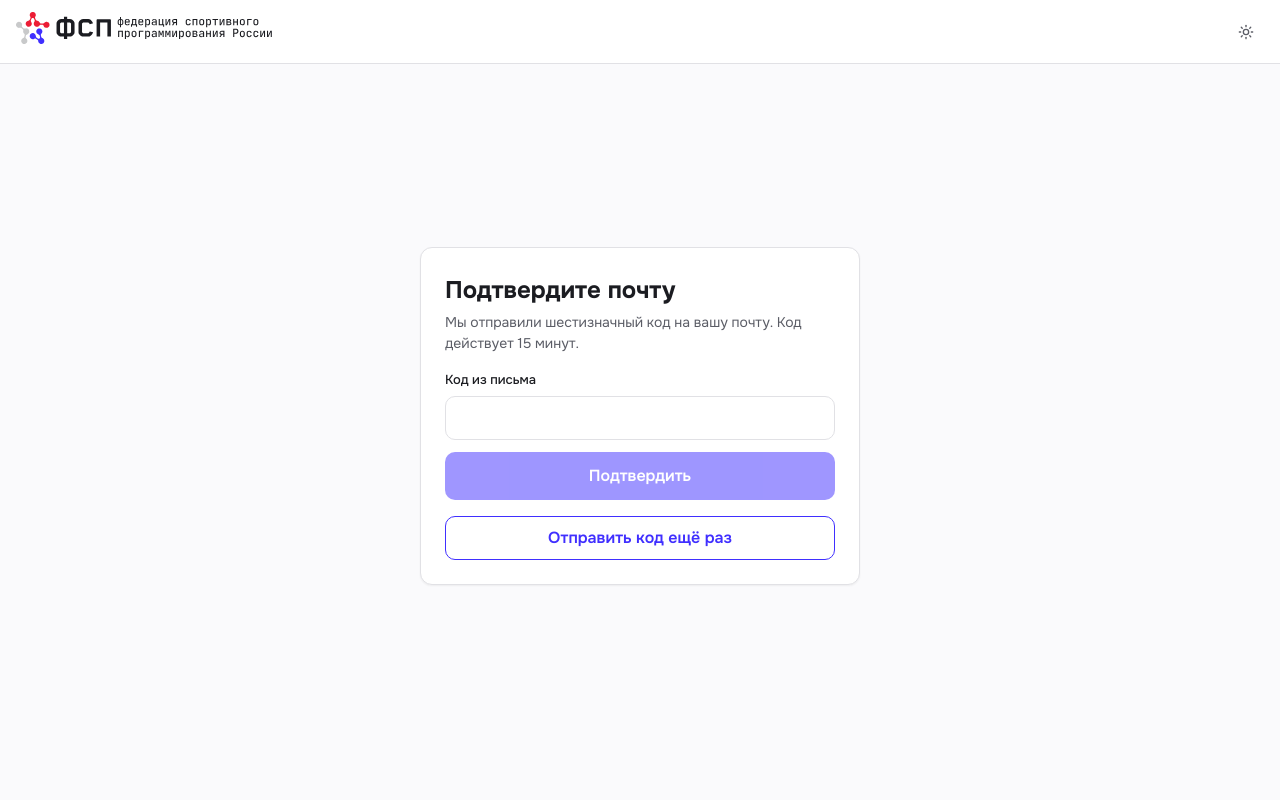
it: повторная отправка: после успеха кнопка блокируется на кулдаун
Click the button with test id "verify-resend": (640, 538) [445,516,835,560]
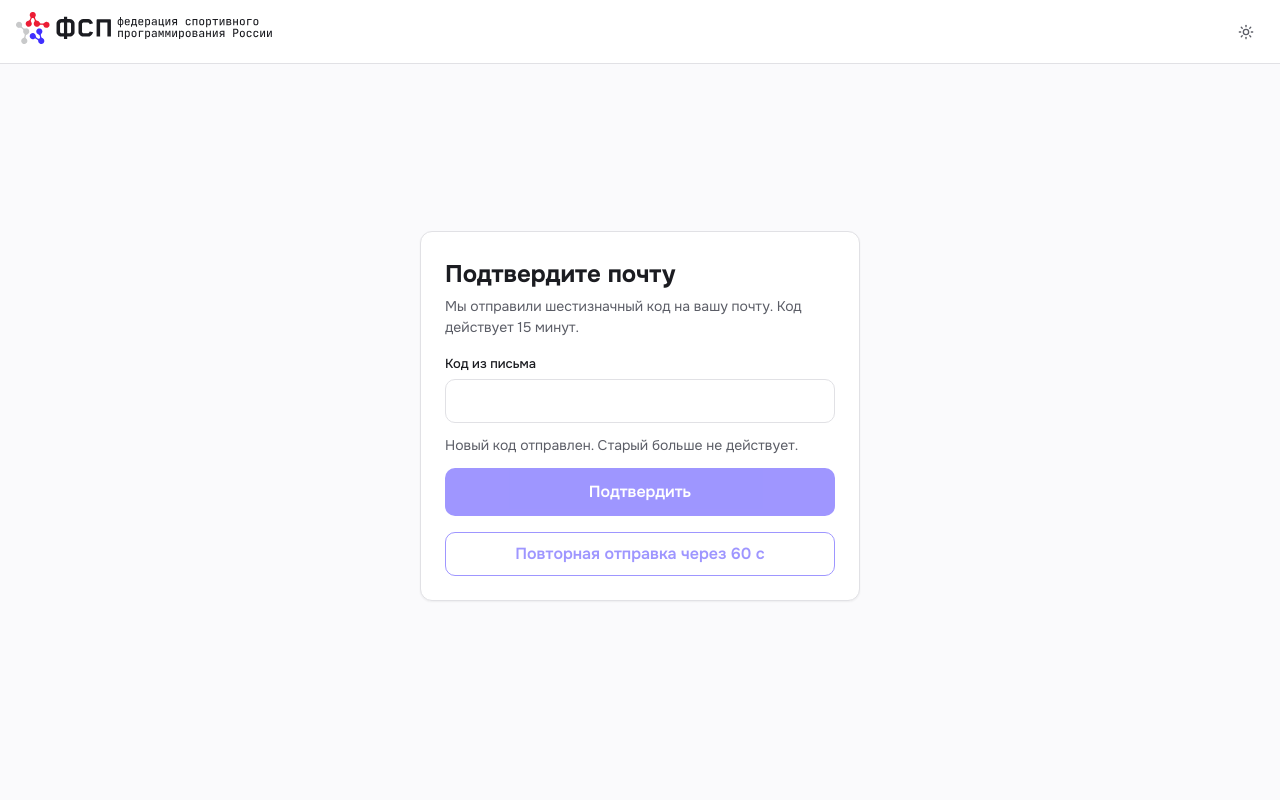
Expected: the message "Новый код отправлен. Старый больше не действует." is shown, [445,435,835,456]
Expected: the button with test id "verify-resend" is disabled, [445,532,835,576]
